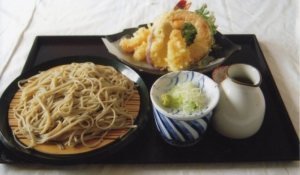Soba: (15, 61, 140, 149)
